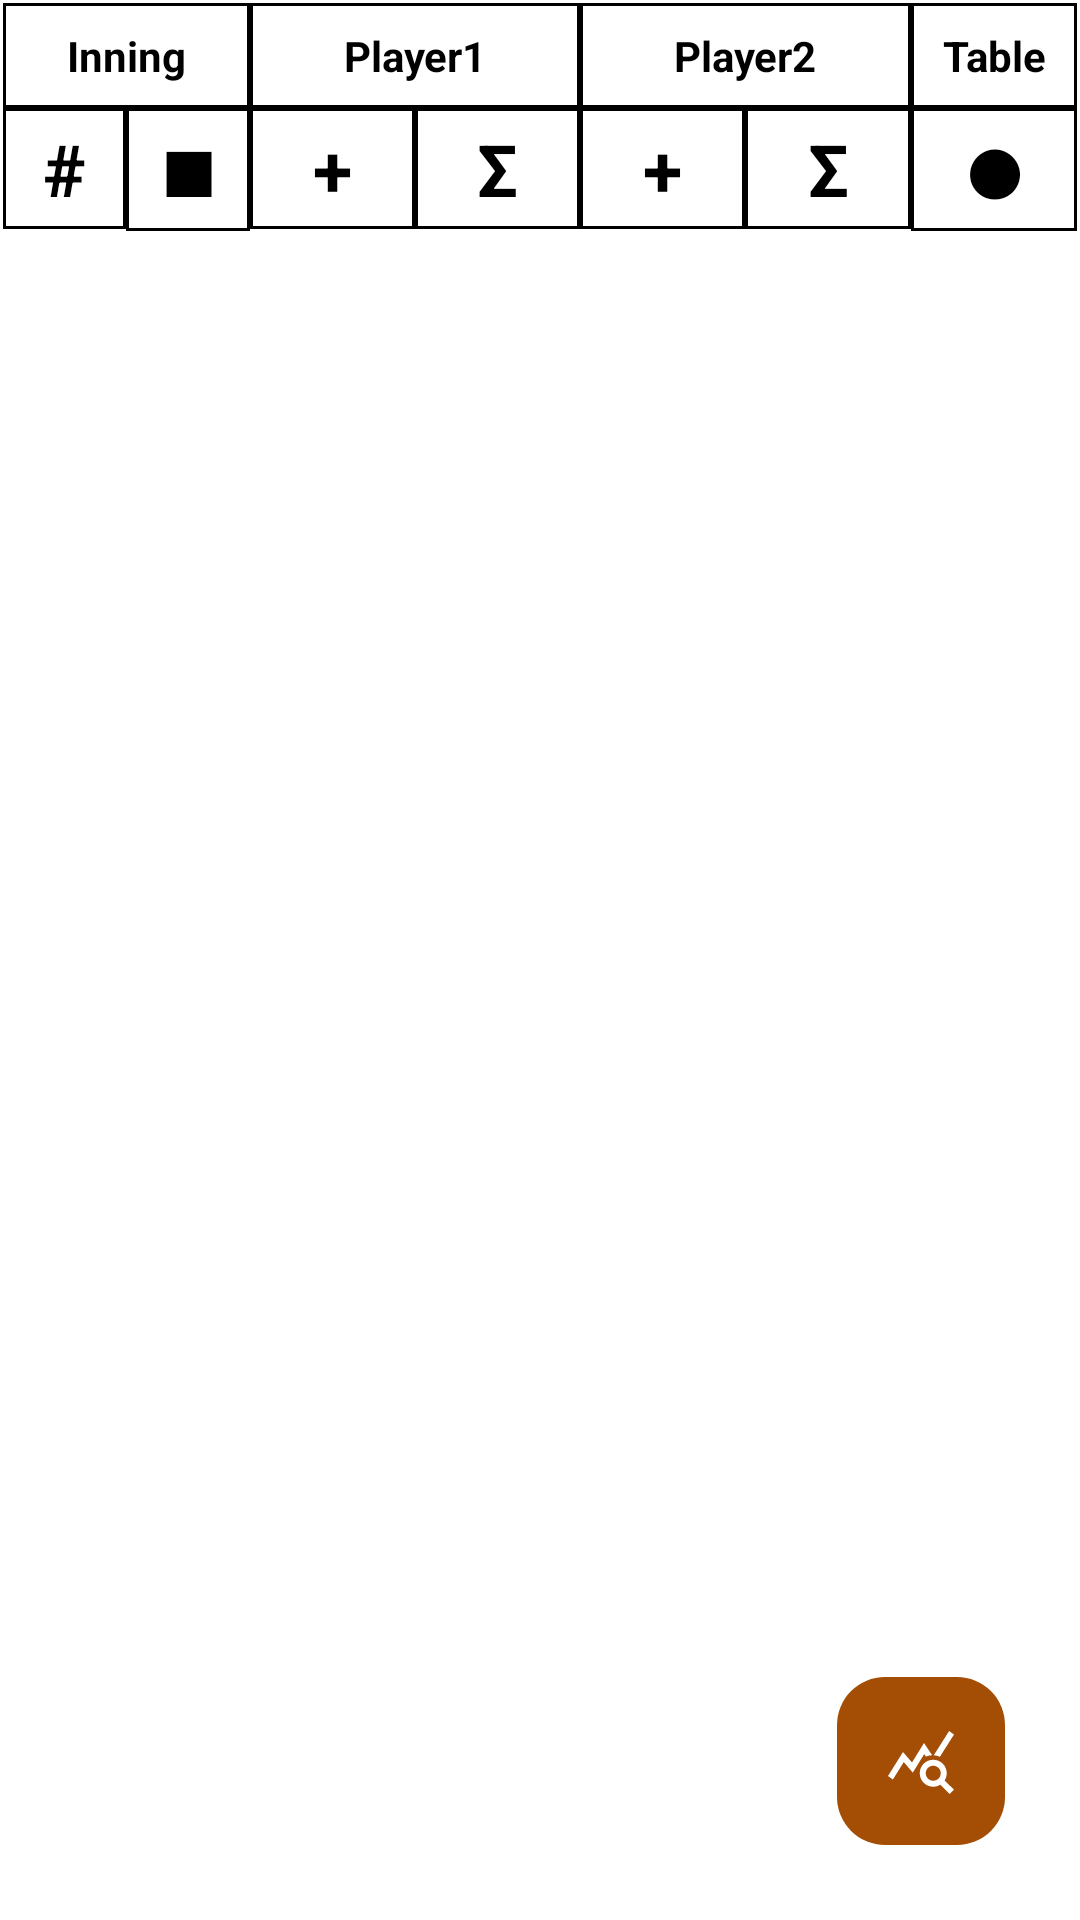

Named icons in this screenshot (1080px×1920px) and their centers, (x,y):
statistics: (921,1761)
